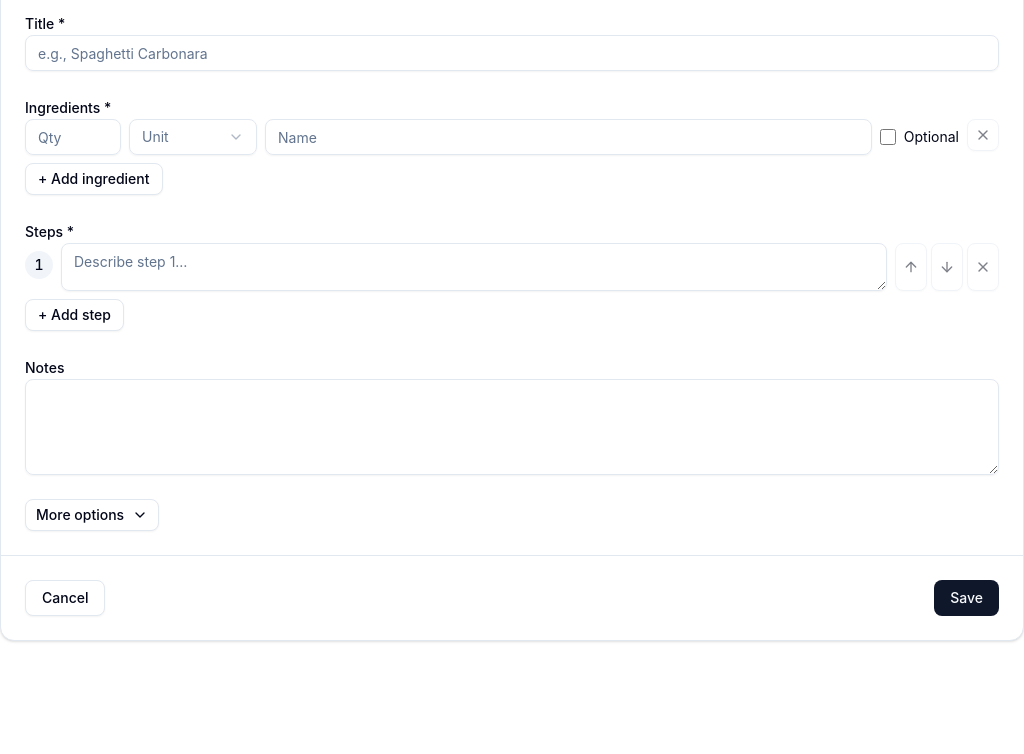
Test case: RecipeForm › renders all labels, inputs, and Save button
Expected: the field labelled "Title *" is shown, [25, 35, 999, 71]
Click the button "More options": (92, 515) [25, 499, 159, 531]
(page scrolled)
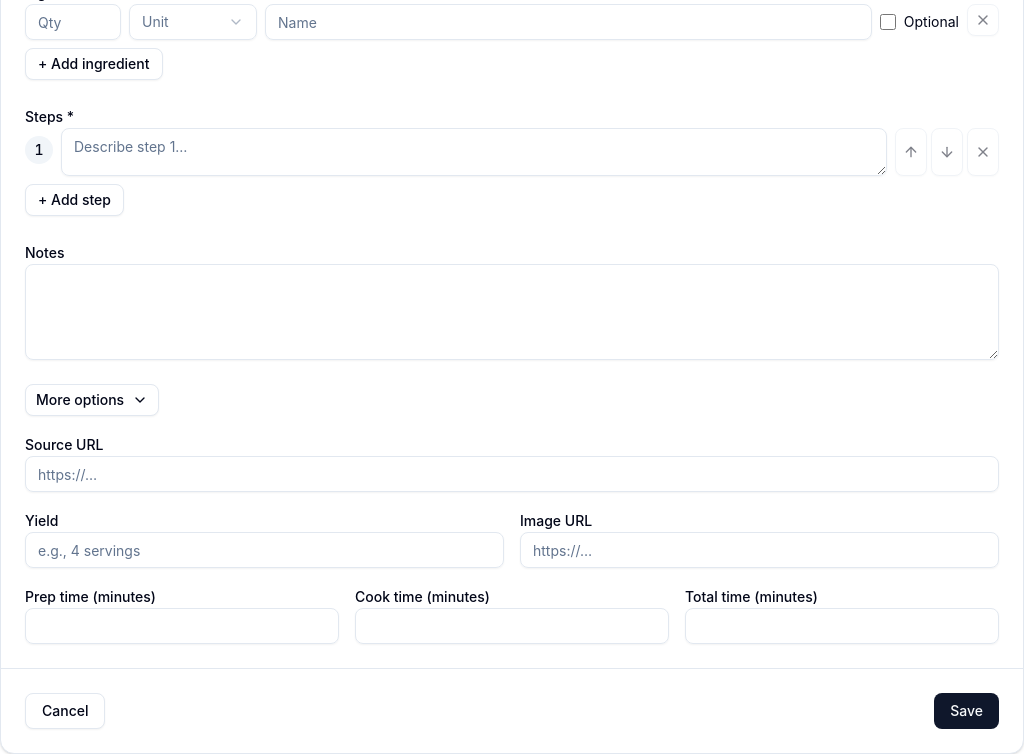
Expected: the number field named "quantity for ingredient 1" is shown, [25, 4, 121, 40]
Now the field labelled "Source URL" is shown, box [25, 456, 999, 492]
